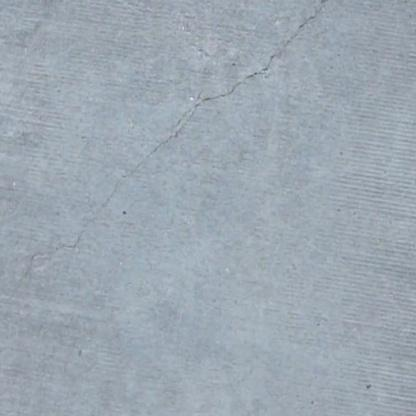Cracks: (0, 0, 365, 317), (0, 0, 13, 37)
